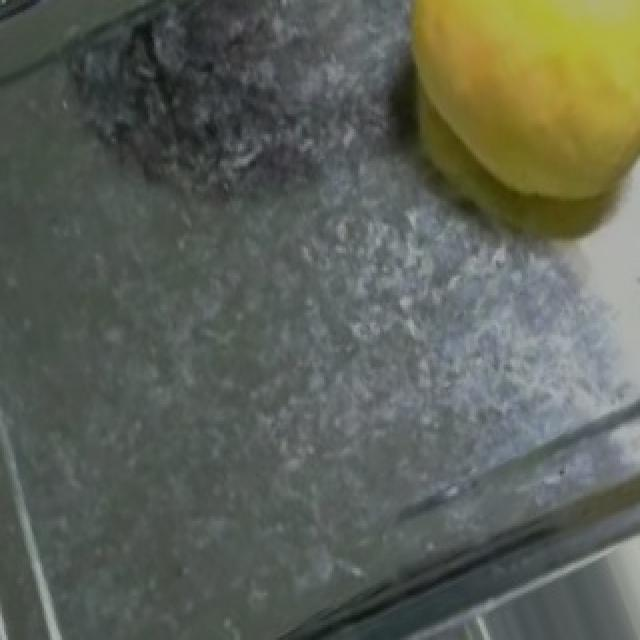fruit: (360, 0, 640, 265)
